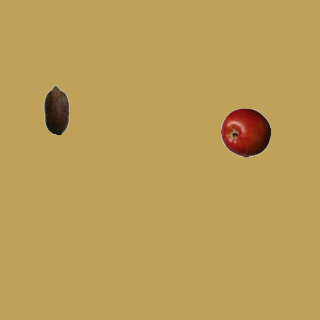Apple Braeburn: (220, 107, 270, 157)
Nut Pecan: (31, 84, 81, 134)
